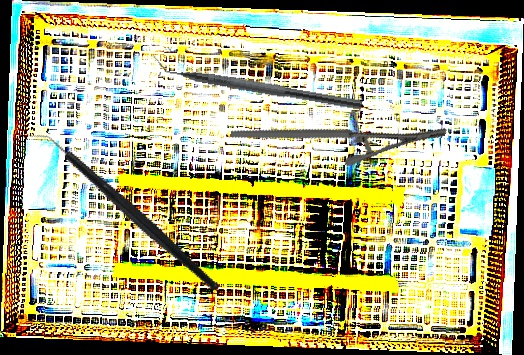Chopper: (25, 87, 221, 335), (147, 52, 365, 110)
Needle Holder: (229, 61, 448, 204)
